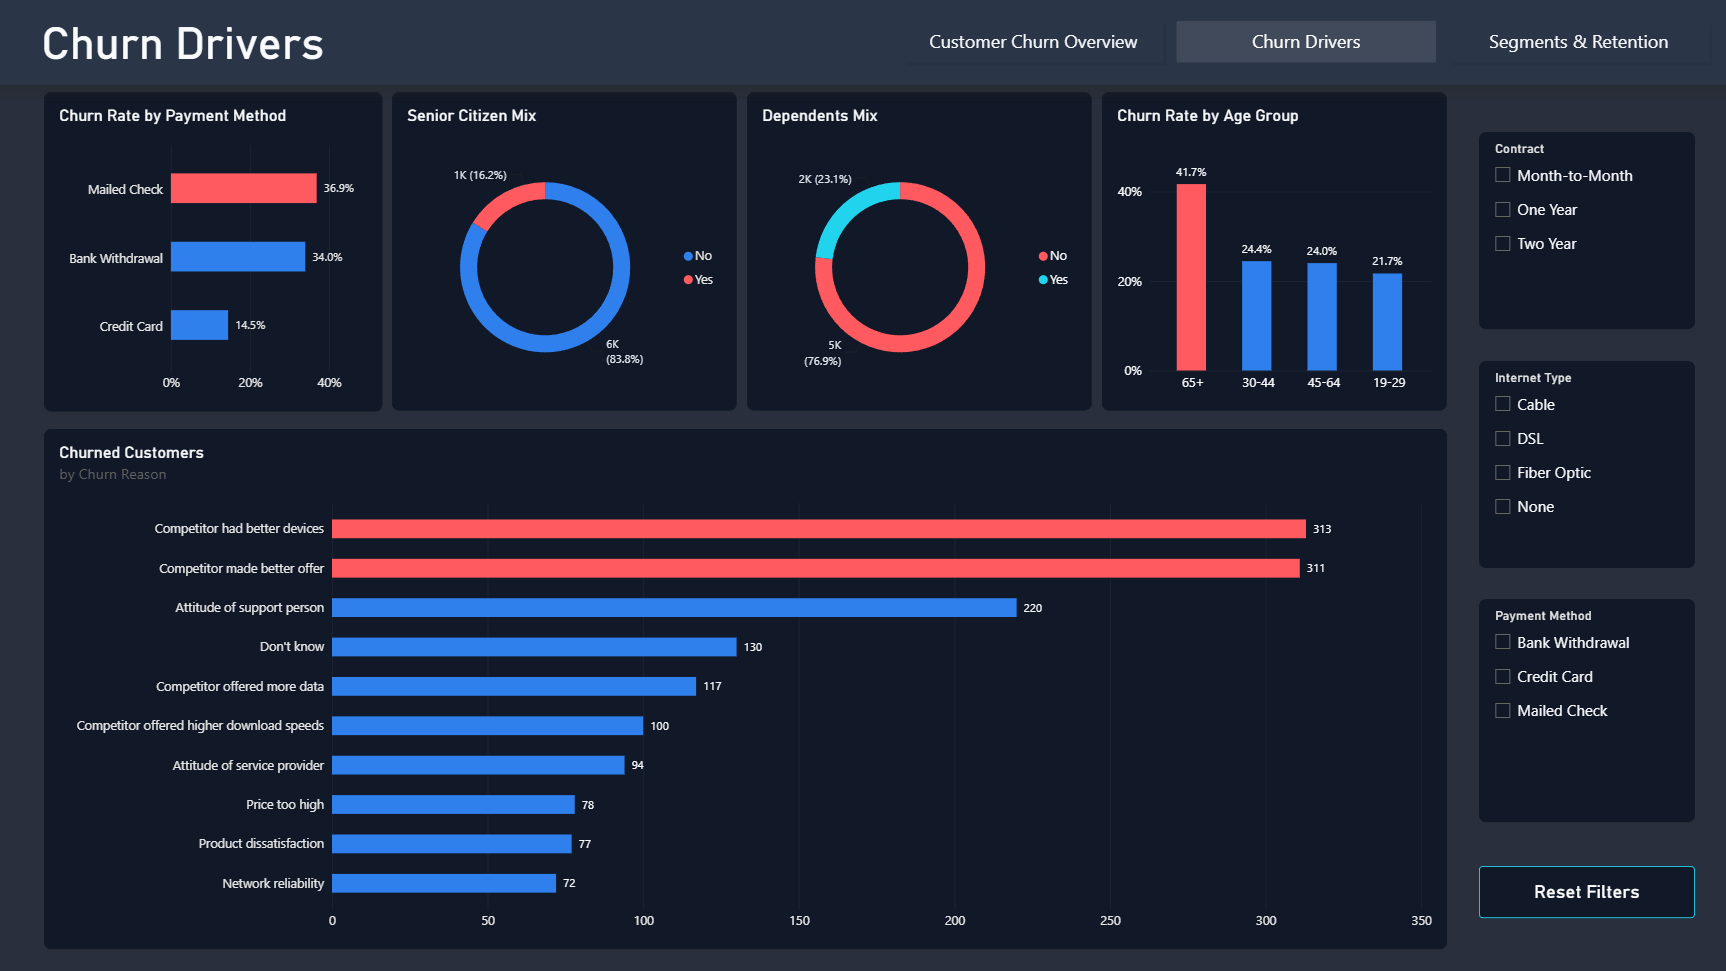

Layout of this report page (visuals, bound fields, positions):
{"tool":"powerbi","page":{"name":"Churn Drivers","canvas":[1920,1080],"ordinal":1},"visuals":[{"type":"barChart","fields":{"Category":["Customer_Services.Payment Method"],"Y":["Customer_Status.Churn Rate"]},"box":[50,101.9,375.8,354.8],"z":0},{"type":"donutChart","title":"Senior Citizen Mix","fields":{"Category":["Customer_Demographics.Senior Citizen"],"Y":["Customer_Status.Total Customers"]},"box":[436.8,102.2,383.3,354.4],"z":1000},{"type":"donutChart","title":"Dependents Mix","fields":{"Category":["Customer_Demographics.Dependents"],"Y":["Customer_Status.Total Customers"]},"box":[831.2,102.2,383.3,354.4],"z":2000},{"type":"columnChart","fields":{"Category":["Customer_Demographics.Age Group"],"Y":["Customer_Status.Churn Rate"]},"box":[1225.6,102.2,383.3,354.4],"z":3000},{"type":"barChart","fields":{"Category":["Customer_Status.Churn Reason"],"Y":["Customer_Status.Churned Customers"]},"box":[50,476.8,1559.2,577.7],"z":4000},{"type":"actionButton","box":[1644.4,962.2,239.9,58],"z":8000},{"type":"shape","box":[0,0,1920.4,94],"z":9000},{"type":"pageNavigator","box":[1000.5,18,905.5,58],"z":10000},{"type":"textbox","box":[47.8,18.9,327.8,66.7],"z":11000},{"type":"slicer","fields":{"Values":["Customer_Services.Contract"]},"box":[1644.1,146.7,240,218.9],"z":11001},{"type":"slicer","fields":{"Values":["Customer_Services.Internet Type"]},"box":[1644.1,400.7,239.9,229.9],"z":11002},{"type":"slicer","fields":{"Values":["Customer_Services.Payment Method"]},"box":[1644.1,665.8,239.9,247.9],"z":11003}]}

Visuals, with their boxes in screenshot pixels (x1, y1, x2, y2), scaled from the page's 1920x1080 canvas onto the 1726x971 screenshot:
barChart - Customer_Services.Payment Method x Customer_Status.Churn Rate: locate(45, 92, 383, 411)
"Senior Citizen Mix" donutChart: locate(393, 92, 737, 411)
"Dependents Mix" donutChart: locate(747, 92, 1092, 411)
columnChart - Customer_Demographics.Age Group x Customer_Status.Churn Rate: locate(1102, 92, 1446, 411)
barChart - Customer_Status.Churn Reason x Customer_Status.Churned Customers: locate(45, 429, 1447, 948)
actionButton: locate(1478, 865, 1694, 917)
shape: locate(0, 0, 1725, 85)
pageNavigator: locate(899, 16, 1713, 68)
textbox: locate(43, 17, 338, 77)
slicer - Customer_Services.Contract: locate(1478, 132, 1694, 329)
slicer - Customer_Services.Internet Type: locate(1478, 360, 1694, 567)
slicer - Customer_Services.Payment Method: locate(1478, 599, 1694, 821)
